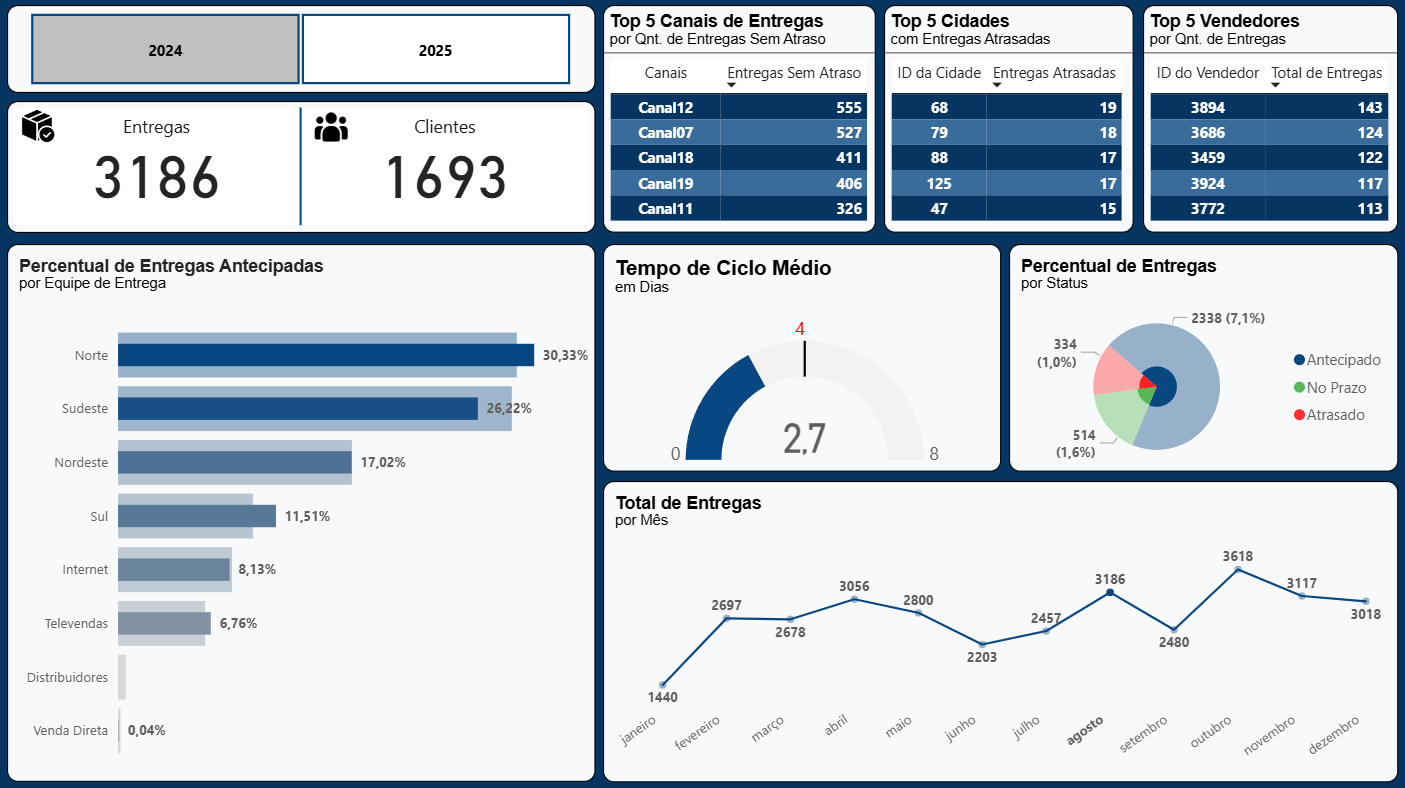

This screenshot's page, from the dashboard's own definition file:
{"tool":"powerbi","page":{"name":"Dashboard","canvas":[1280,720],"ordinal":0},"visuals":[{"type":"tableEx","title":"Top 5 Canais de Entregas","fields":{"Values":["Logistica.Canal_Entrega","Tabela.Entregas_no_Prazo"]},"box":[550,7.3,248.2,207.3],"z":0},{"type":"barChart","title":"Percentual de Entregas Antecipadas","fields":{"Category":["Logistica.Equipe_Entrega"],"Y":["Medidas.Entregas_Antecipadas"]},"box":[8.2,224.5,535.5,489.1],"z":1000},{"type":"lineChart","title":"Total de Entregas","fields":{"Y":["Medidas.Total_Entregas"],"Category":["Logistica.Data_Entrega_Realizada.Variation.Hierarquia de datas.Mês"]},"box":[550,440,722.7,273.6],"z":2000},{"type":"tableEx","title":"Top 5 Vendedores","fields":{"Values":["Logistica.ID_Vendedor","Tabela.Total_Entregas"]},"box":[1040.9,7.3,231.8,207.3],"z":3000},{"type":"tableEx","title":"Top 5 Cidades","fields":{"Values":["Logistica.ID_Cidade","Tabela.Entragas_Atrasadas"]},"box":[805.5,7.3,227.3,207.3],"z":4000},{"type":"pieChart","title":"Percentual de Entregas","fields":{"Category":["Logistica.Status_Entrega"],"Y":["Divide(CountNonNull(Logistica.Status_Entrega), ScopedEval(CountNonNull(Logistica.Status_Entrega), []))"]},"box":[919.1,224.5,353.6,207.3],"z":5000},{"type":"gauge","title":"Tempo de Ciclo Médio","fields":{"Y":["Avg(Logistica.Dias_Entrega)"]},"box":[550,224.5,361.8,207.3],"z":6000},{"type":"cardVisual","title":"Entregas","fields":{"Data":["Medidas.Total_Entregas","Count(Logistica.ID_Cliente)"]},"box":[8.2,94.9,535.5,119.6],"z":7000,"group":"g1"},{"type":"slicer","title":"Selecione o Período","fields":{"Values":["Logistica.Data_Entrega_Realizada.Variation.Hierarquia de datas.Ano"]},"box":[8.2,7.3,534.5,80],"z":8000},{"type":"image","box":[8.2,94.5,55.4,46],"z":9000,"group":"g1"},{"type":"image","box":[280.6,98.1,44.7,39.7],"z":10000,"group":"g1"},{"type":"group","id":"g1","title":"Grupo 1","box":[8.2,94.5,535.5,120],"z":10001}]}

Visuals, with their boxes in screenshot pixels (x1, y1, x2, y2), scaled from the page's 1280x720 canvas onto the 1405x788 screenshot:
"Top 5 Canais de Entregas" tableEx: [left=604, top=8, right=876, bottom=235]
"Percentual de Entregas Antecipadas" barChart: [left=9, top=246, right=597, bottom=781]
"Total de Entregas" lineChart: [left=604, top=482, right=1397, bottom=781]
"Top 5 Vendedores" tableEx: [left=1143, top=8, right=1397, bottom=235]
"Top 5 Cidades" tableEx: [left=884, top=8, right=1134, bottom=235]
"Percentual de Entregas" pieChart: [left=1009, top=246, right=1397, bottom=473]
"Tempo de Ciclo Médio" gauge: [left=604, top=246, right=1001, bottom=473]
"Entregas" cardVisual: [left=9, top=104, right=597, bottom=235]
"Selecione o Período" slicer: [left=9, top=8, right=596, bottom=96]
image: [left=9, top=103, right=70, bottom=154]
image: [left=308, top=107, right=357, bottom=151]
"Grupo 1" group: [left=9, top=103, right=597, bottom=235]
